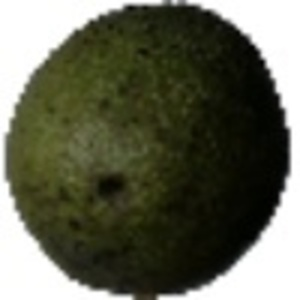abacate: (4, 2, 289, 295)
